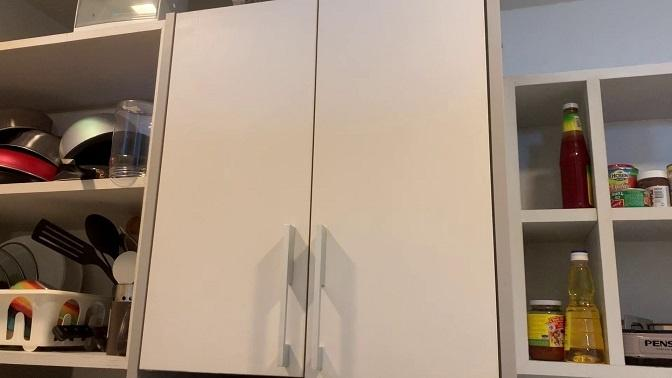cabinet_door: (311, 0, 493, 378), (146, 8, 313, 373)
handle: (272, 221, 297, 371), (309, 221, 331, 374)
